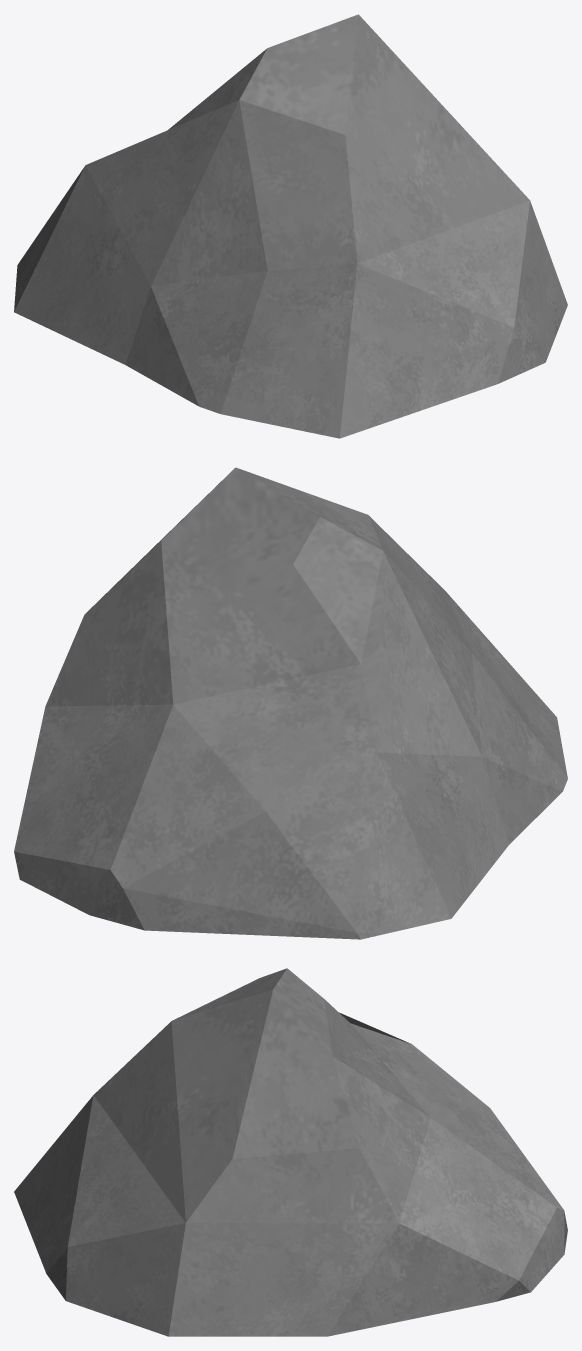
File: Mountain_4.glb
3 views of the same model, one above another, from view 1: azimuth 30°, elevation 25°; view 2: azimuth 150°, elevation 25°; view 3: azimuth 270°, elevation 25° (orthographic). The views are drawn at different scales.
Visible parts, largest first — view 1: Icosphere.035_Icosphere.136; view 2: Icosphere.035_Icosphere.136; view 3: Icosphere.035_Icosphere.136.
Boxes of the visible parts, left/top/right/bottom form: Icosphere.035_Icosphere.136: left=14, top=14, right=567, bottom=438; Icosphere.035_Icosphere.136: left=14, top=467, right=567, bottom=939; Icosphere.035_Icosphere.136: left=14, top=968, right=567, bottom=1336.
Bounding box in the file's own units: 59.26 × 38.48 × 70.16.
Materials: 1 (1 with a texture image).
